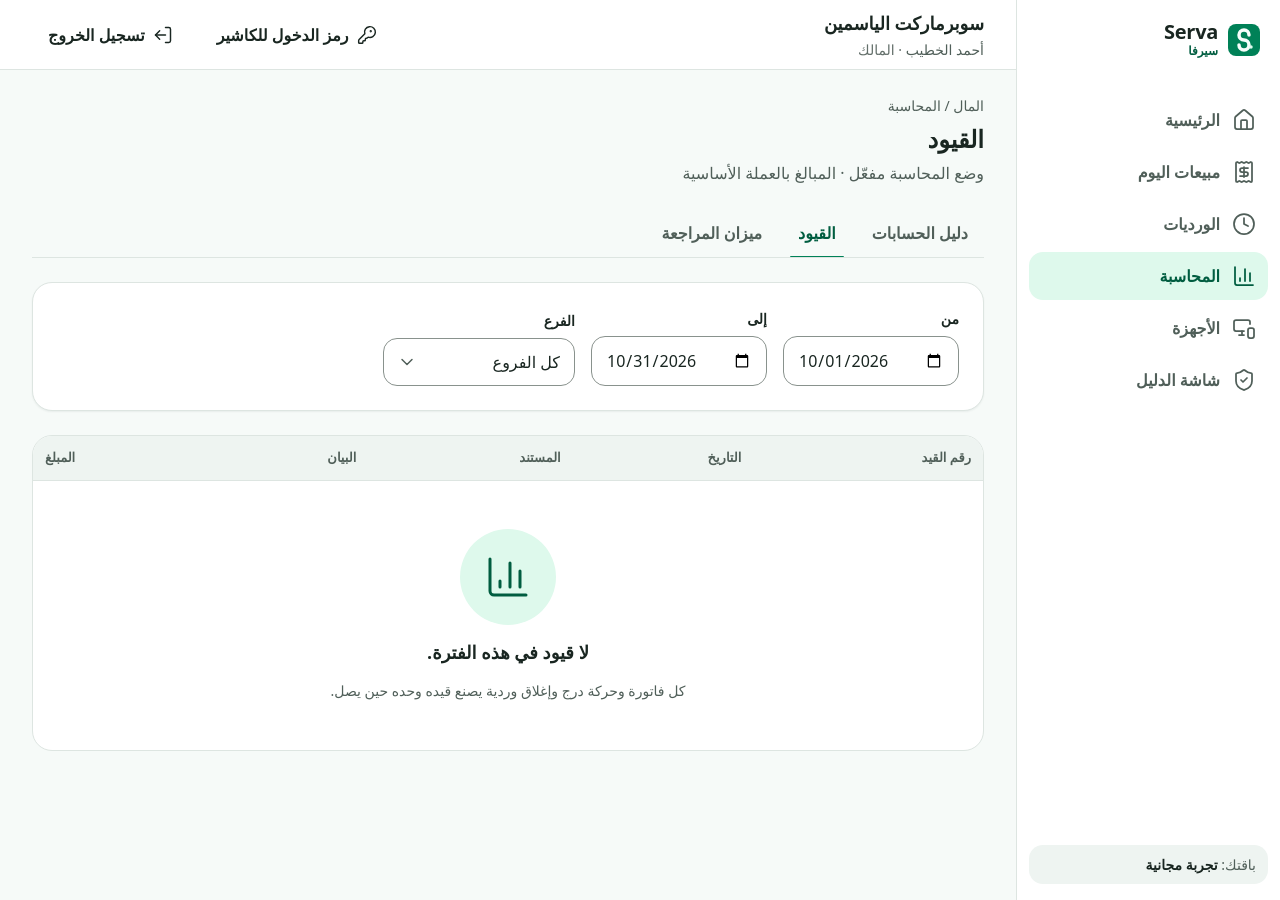
Test: «القيود» › asks again for the period and branch picked, and says when there is nothing
The image size is (1280, 900).
expect the text "لا قيود في هذه الفترة." is shown: met, box [427,636,589,666]
Type "2026-10-15" into the date field labelled "من".
click(871, 361); type("2026-10-15")  # box [784,337,958,385]
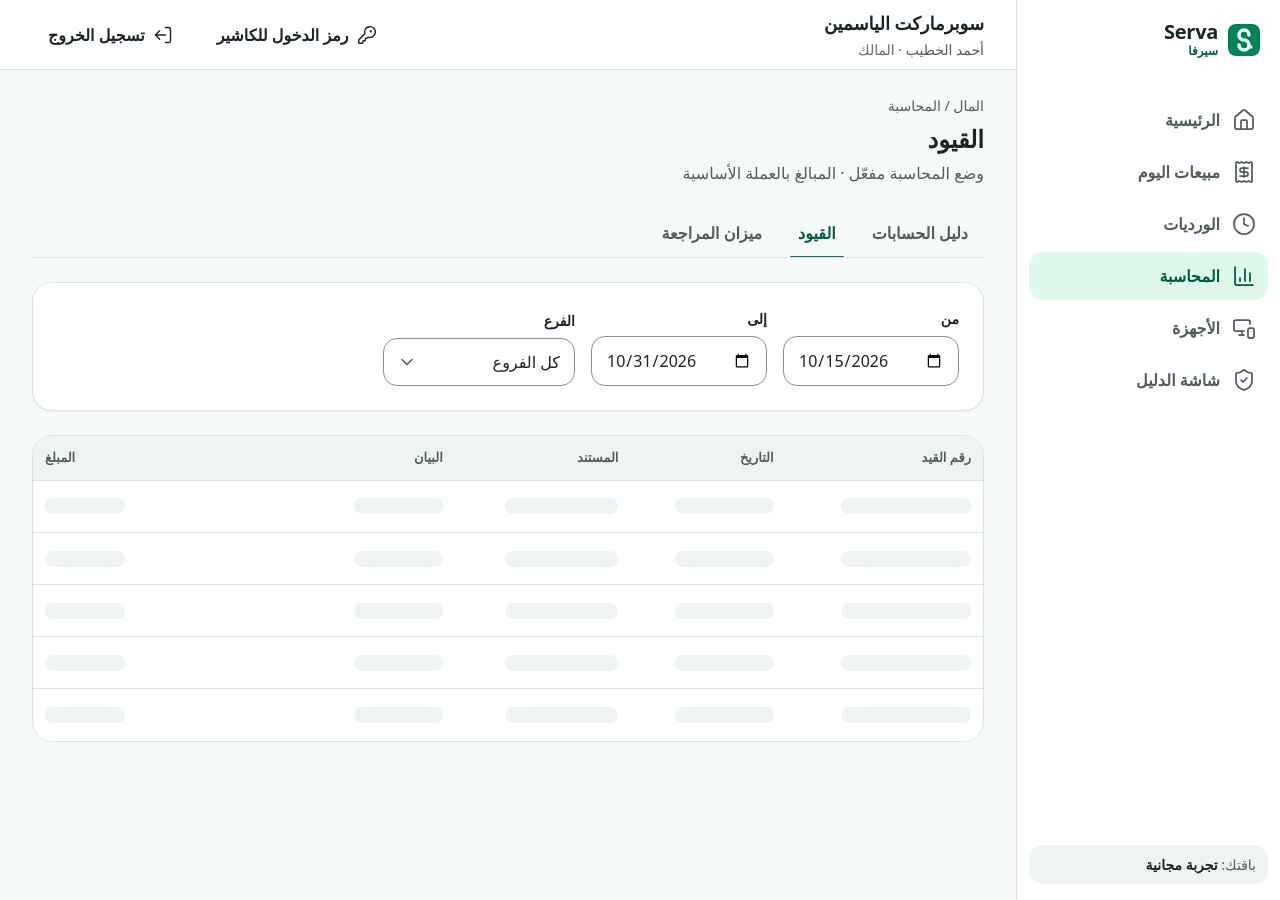
Select "الفرع الرئيسي" in the dropdown labelled "الفرع" at (479,362), box [383,338,575,386]
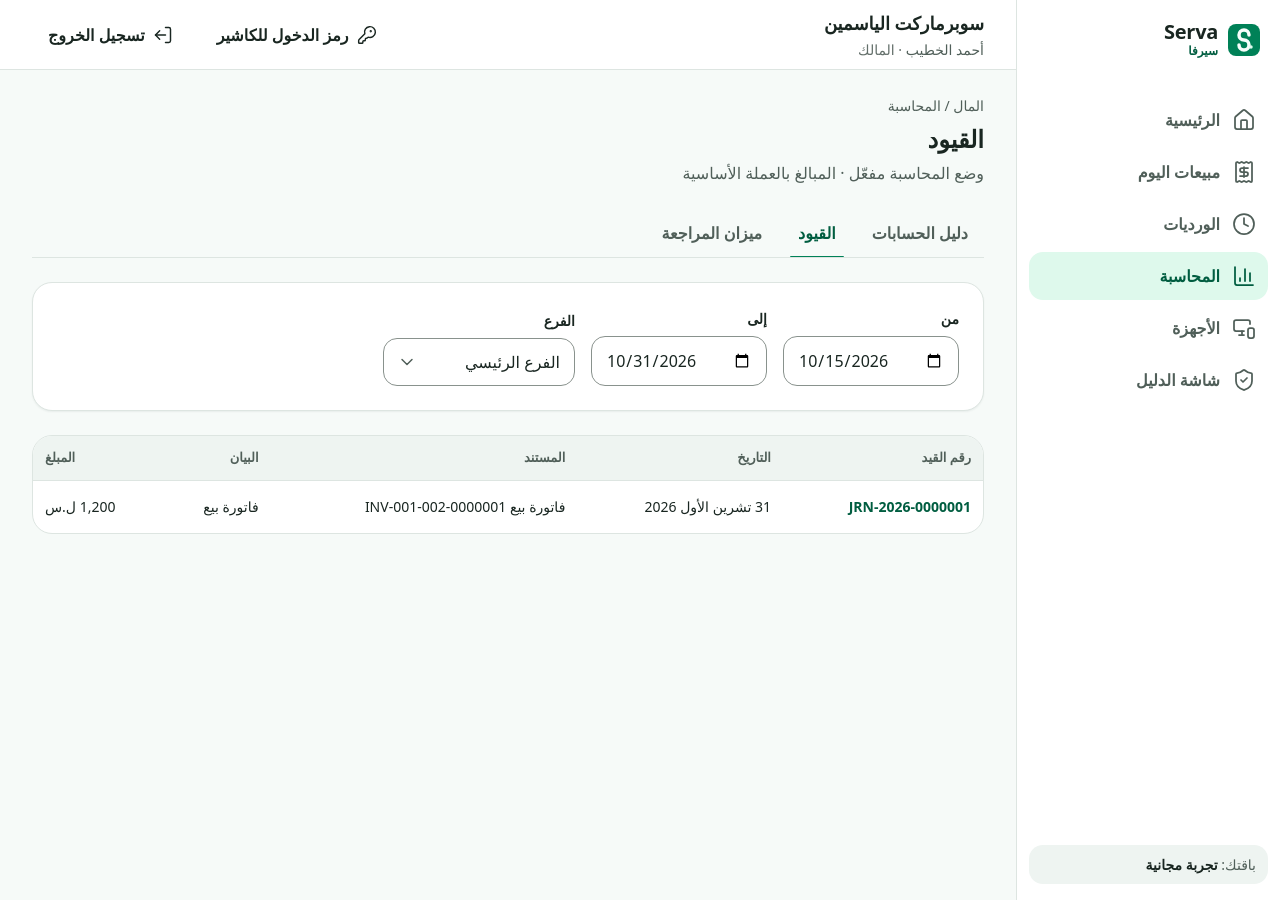
expect the text "JRN-2026-0000001" is shown: met, box [849,495,971,518]
